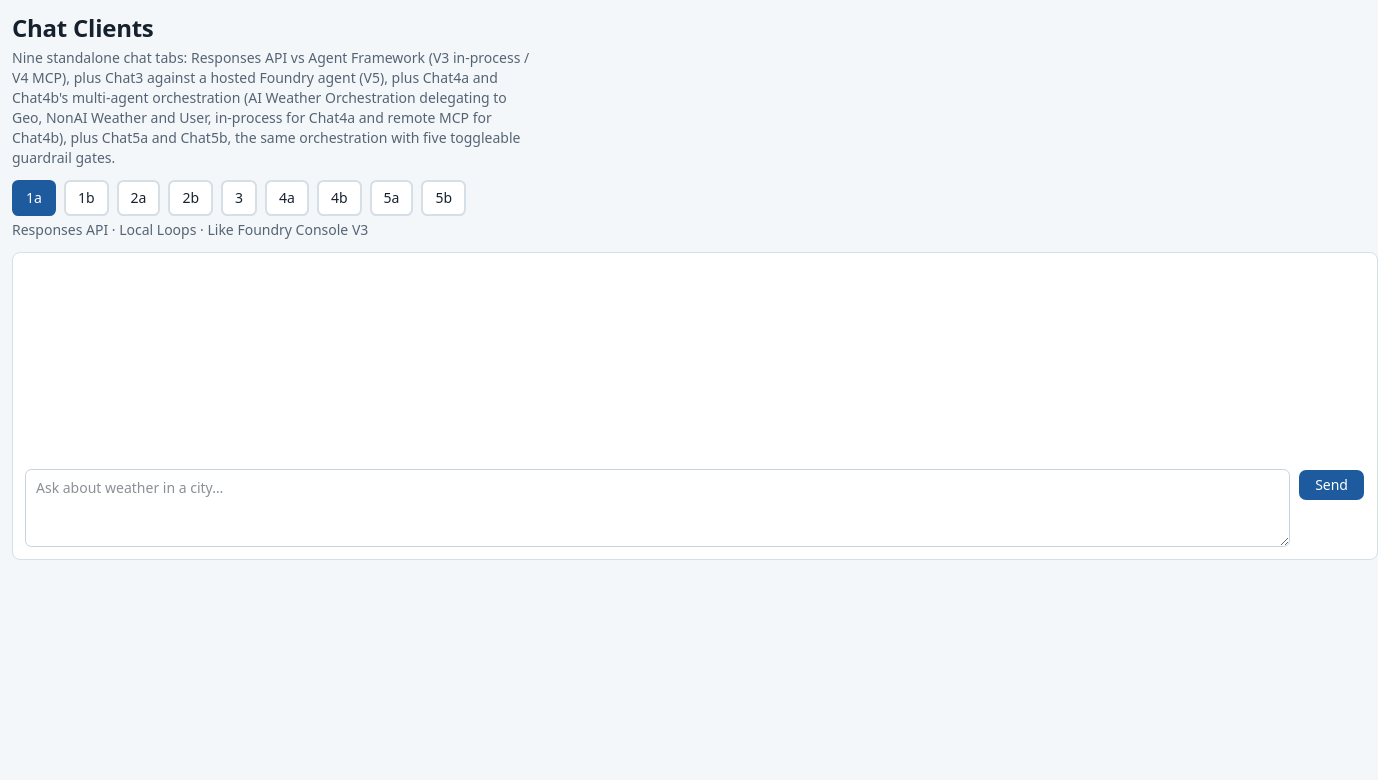
Test: does not close tool details until the pointer leaves the popup
In the text box named "message": (658, 508) [25,469,1290,547], type "weather in toronto"
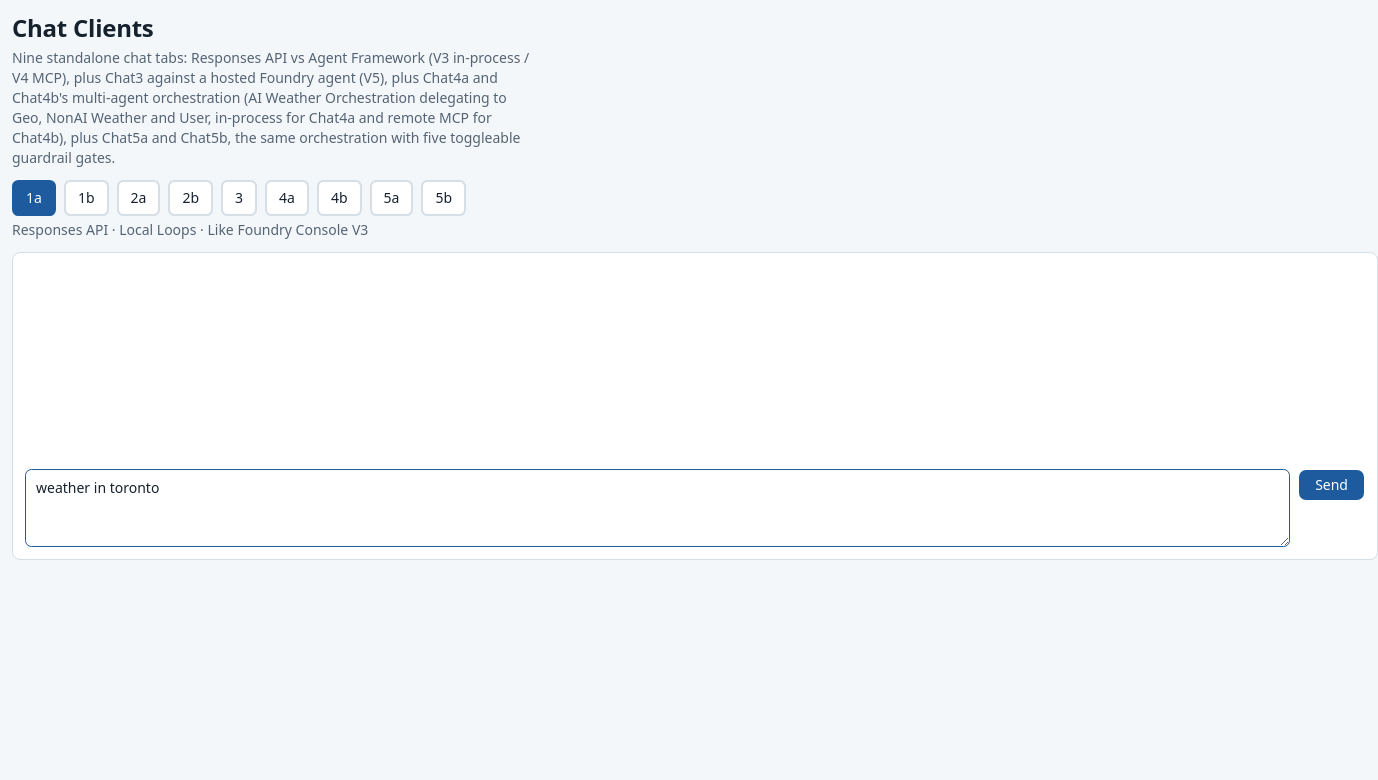
Click the button "Send": (1332, 485) [1298,469,1365,501]
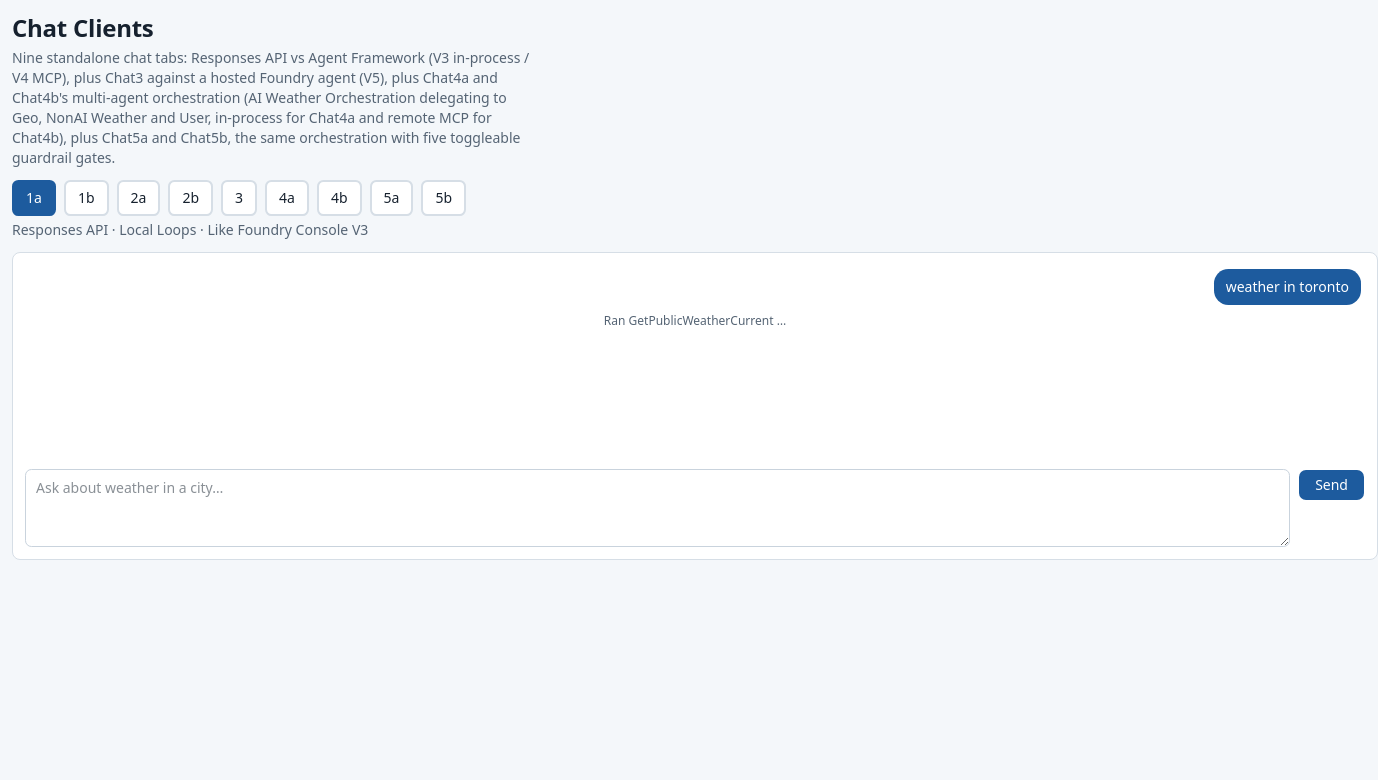
Hover over the text "Ran GetPublicWeatherCurrent …": (695, 321) [604,313,786,329]
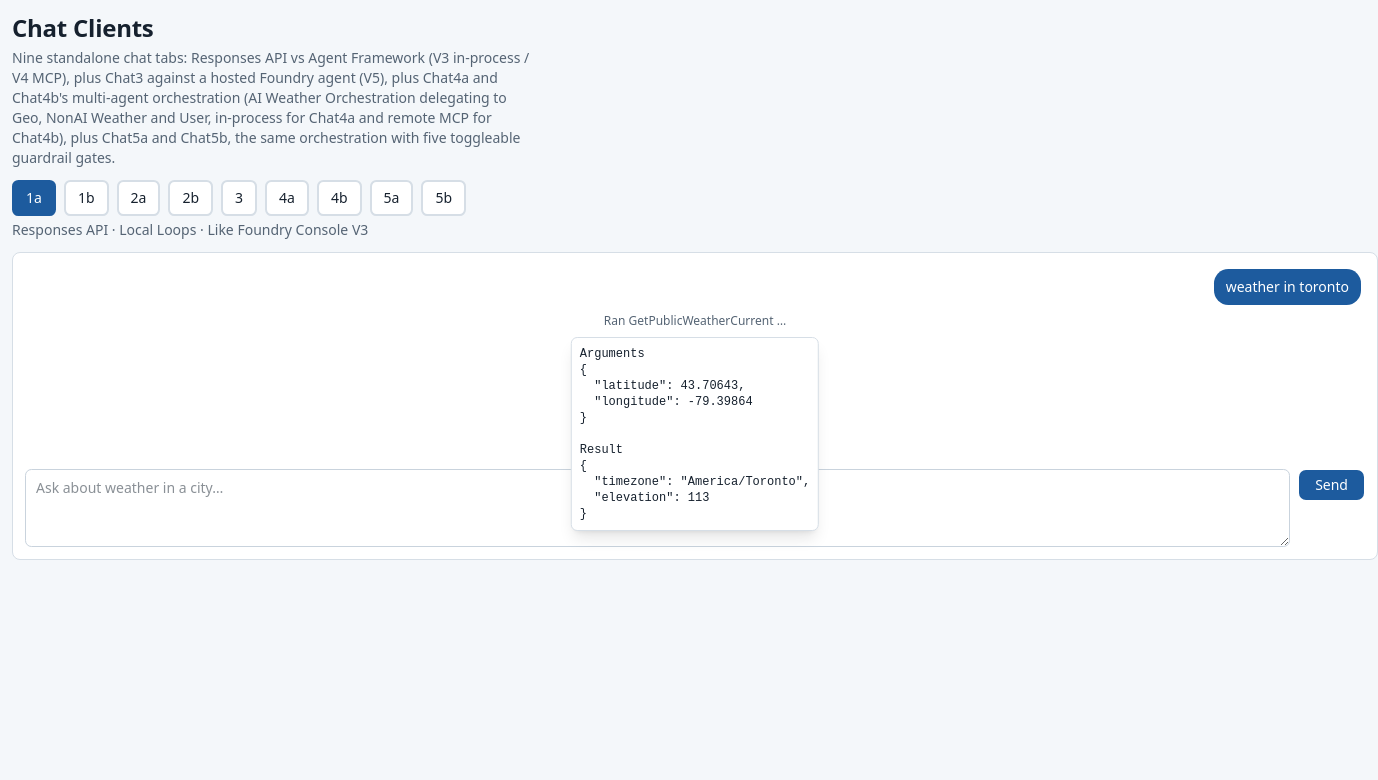
Hover over the tooltip: (695, 430) [571,329,819,531]
Now the tooltip is shown
Move the pointer off the tooltip, box [571,329,819,531]
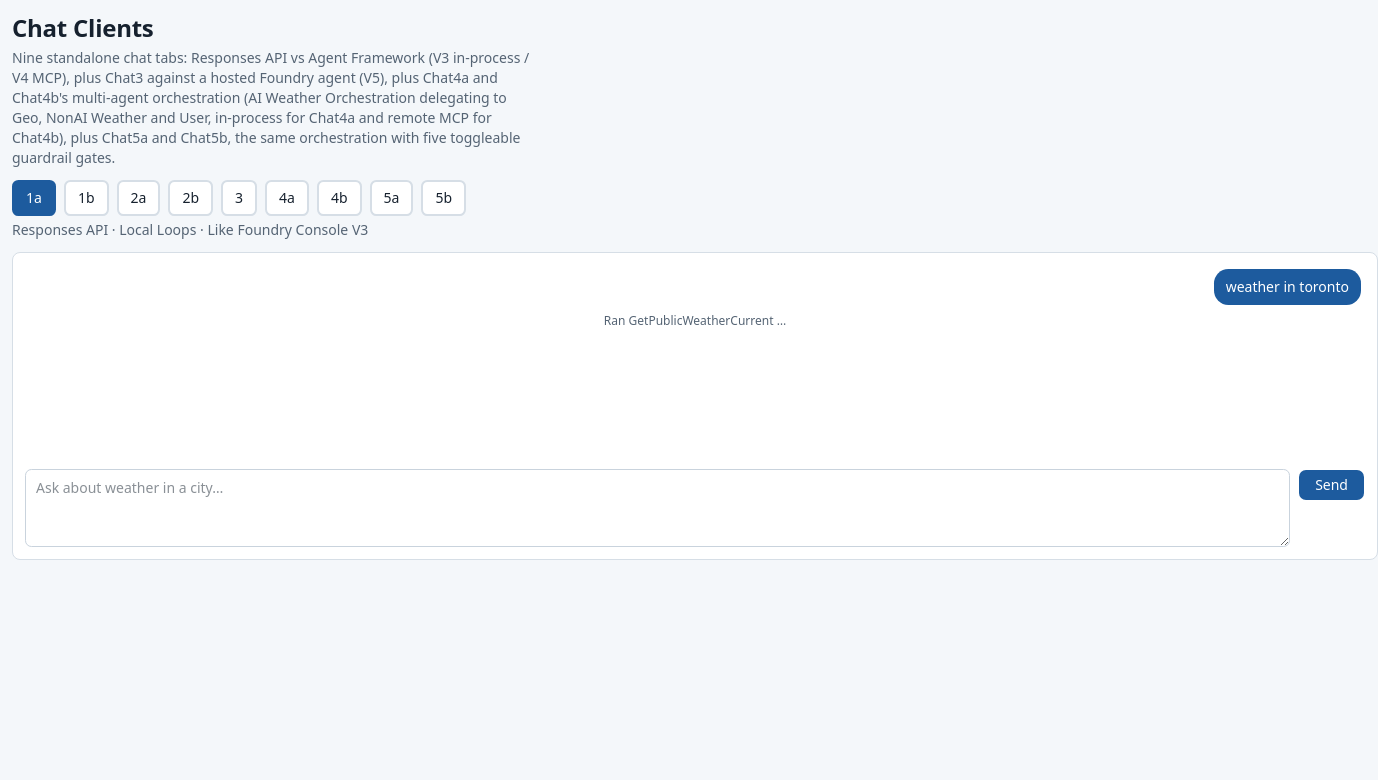
Now the tooltip "Arguments { \"latitude\": 43.70643, \"longitude\": -79.39864 } Result { \"timezone\":" is gone
